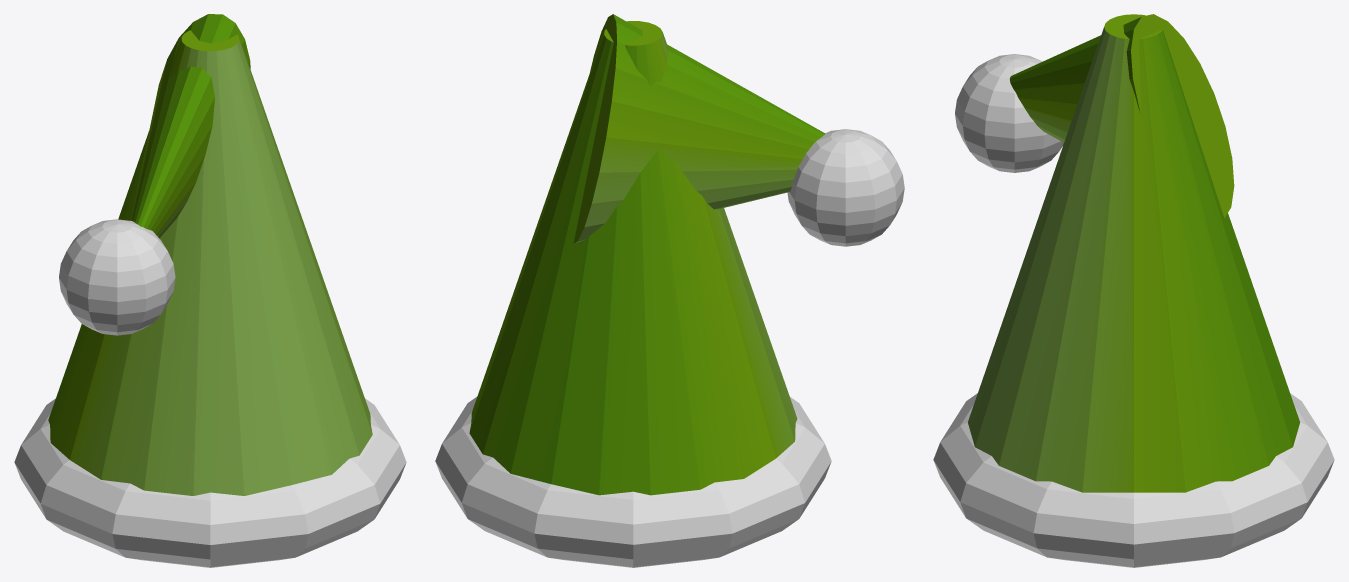
File: flutter-xmas.glb
3 renders of one model, left to right at view 1: azimuth 30°, elevation 25°; view 2: azimuth 150°, elevation 25°; view 3: azimuth 270°, elevation 25°, orthographic. The views are drawn at different scales.
Parts seen in each view (by area): view 1: mesh0; view 2: mesh0; view 3: mesh0.
Part boxes in pixels (<box>): mesh0: <box>14,14,406,567</box>; mesh0: <box>435,14,904,567</box>; mesh0: <box>933,14,1334,567</box>.
Size of the model in its own units: 0.368 by 0.4799 by 0.336.
